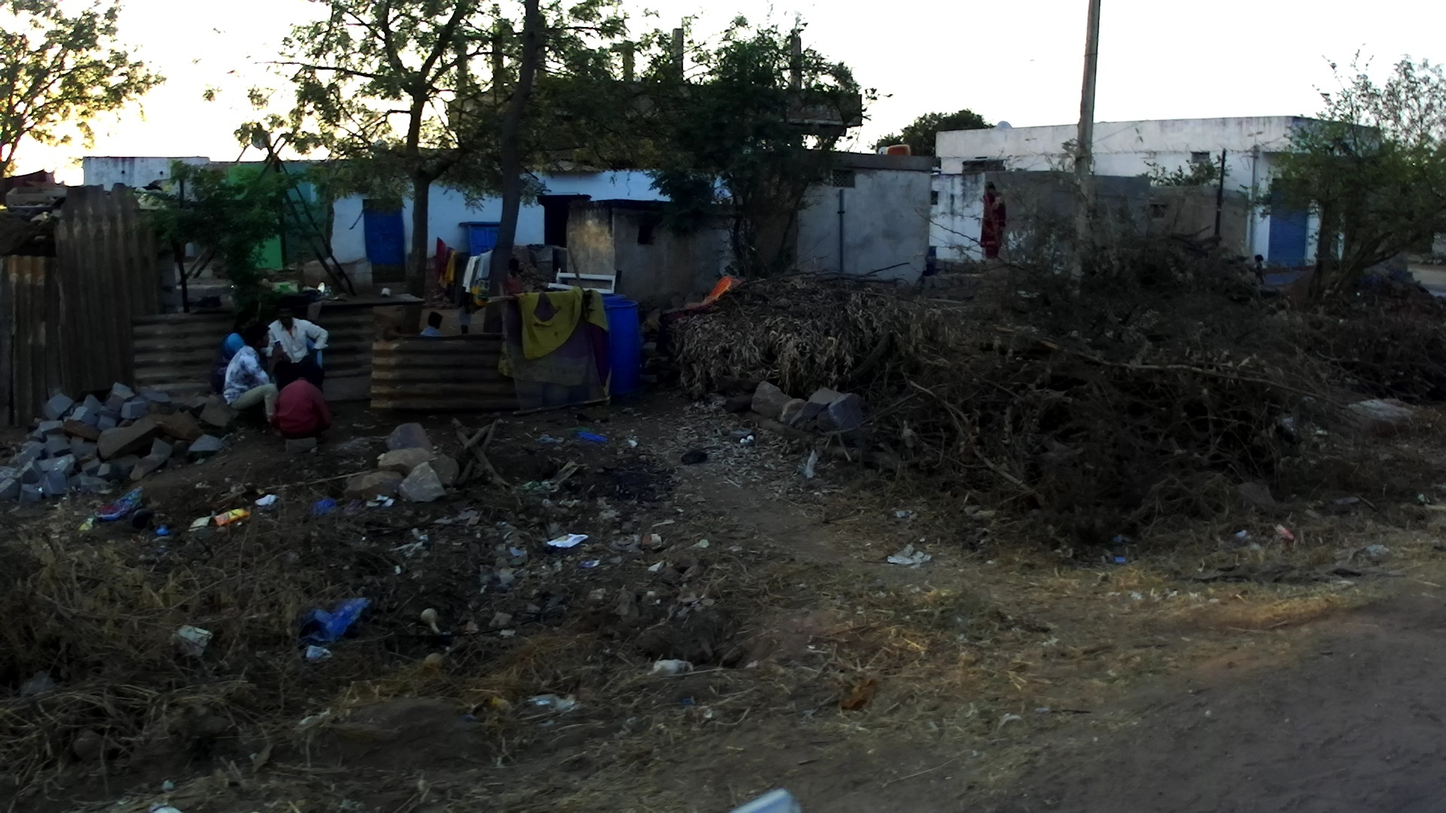person: (224, 321, 284, 437), (263, 302, 329, 393), (276, 355, 336, 452), (211, 312, 262, 397), (505, 255, 524, 297), (419, 312, 444, 336)
